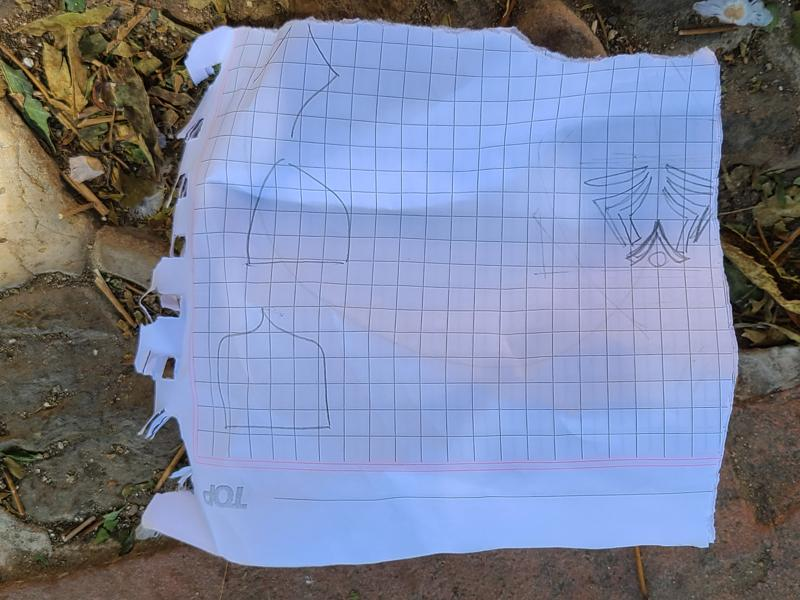papel: (134, 19, 740, 570)
